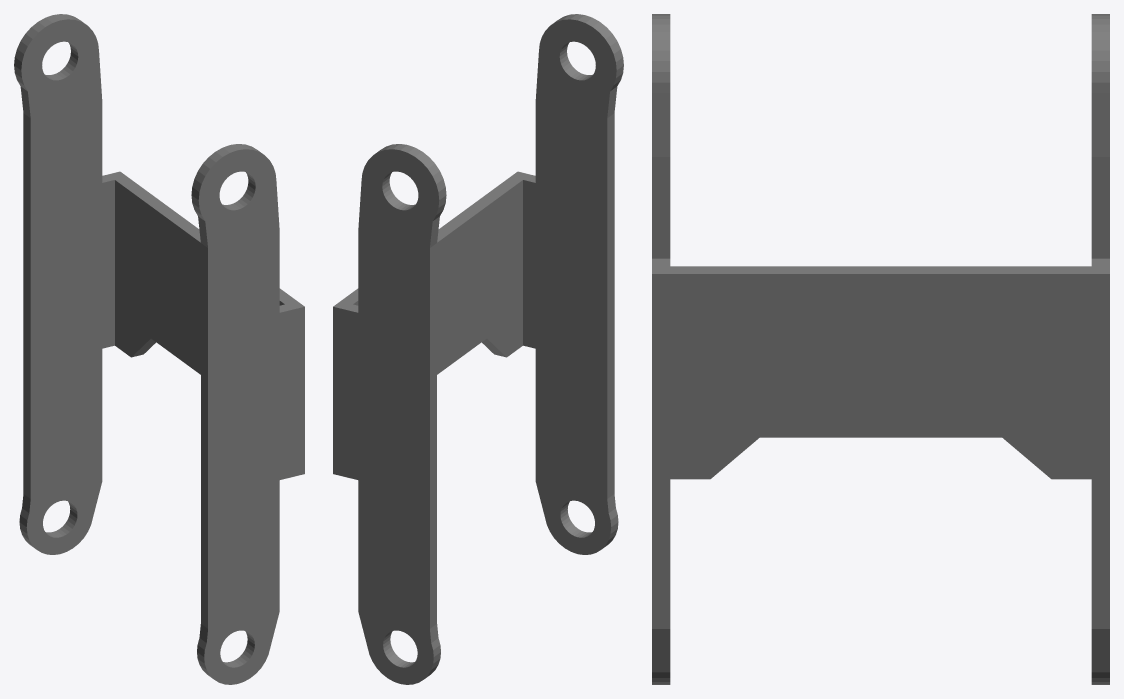
Rendered from link_lower.dae.
3 views of the same model, side by side, from view 1: azimuth 30°, elevation 25°; view 2: azimuth 150°, elevation 25°; view 3: azimuth 270°, elevation 25° (orthographic). The views are drawn at different scales.
Parts seen in each view (by area): view 1: link_lower; view 2: link_lower; view 3: link_lower.
Boxes of the visible parts, x1=… form: link_lower: x1=14, y1=14, x2=304, y2=684; link_lower: x1=333, y1=14, x2=623, y2=684; link_lower: x1=652, y1=14, x2=1109, y2=684.
Bounding box in the file's own units: 0.0126 × 0.038 × 0.0606.
Materials: 1 (1 with a texture image).
